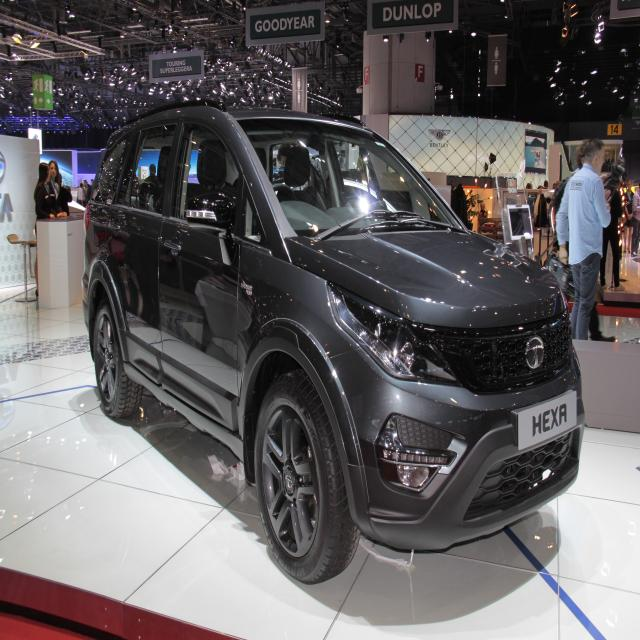car: (94, 106, 559, 547)
